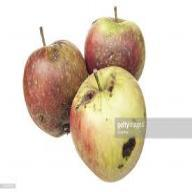apple: (70, 66, 153, 182), (23, 38, 86, 140), (83, 14, 145, 82)
